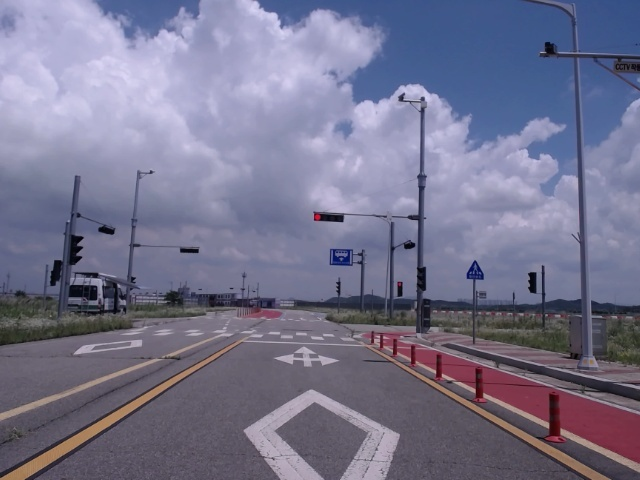red_4: (314, 213, 343, 222)
